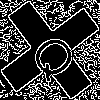Q: (25, 25, 88, 86)
